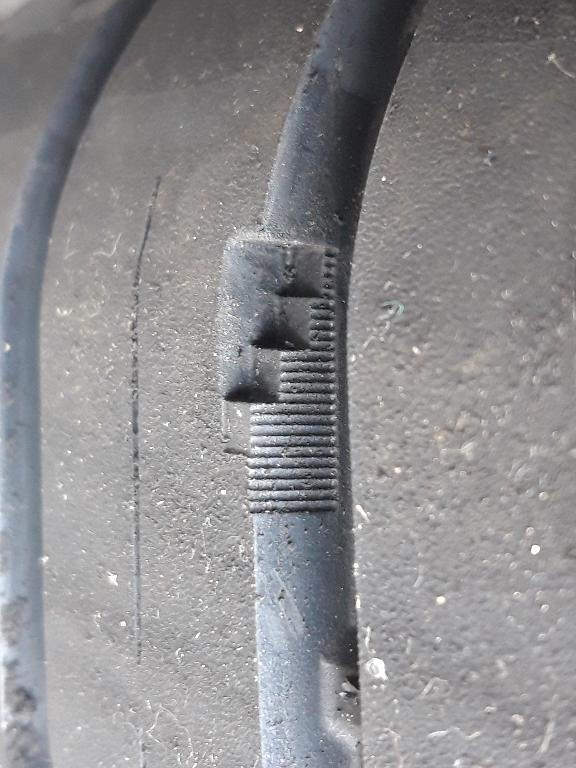temoin:75: (205, 222, 356, 467)
